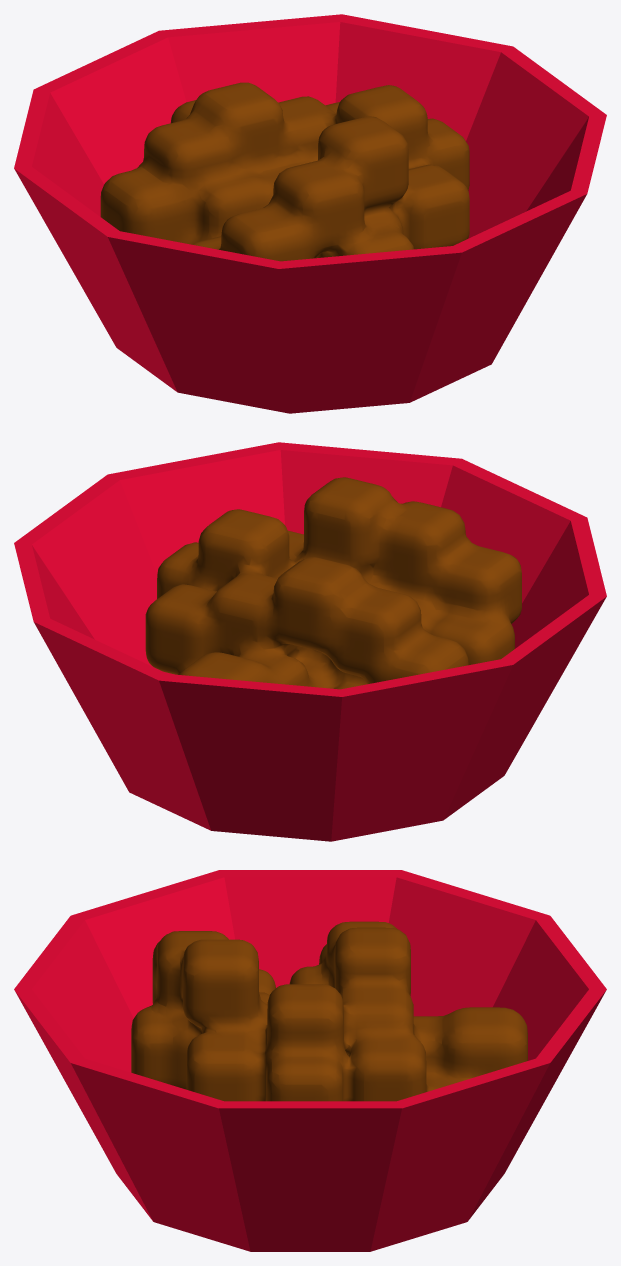
File: platoconalimentocolor.fbx
3 views of the same model, one above another, from view 1: azimuth 30°, elevation 25°; view 2: azimuth 150°, elevation 25°; view 3: azimuth 270°, elevation 25° (orthographic). The views are drawn at different scales.
Parts seen in each view (by area): view 1: Cube, Mball; view 2: Cube, Mball; view 3: Cube, Mball.
Boxes of the visible parts, x1,y1,x2,y2 form: Cube: (14, 14, 606, 413); Mball: (100, 82, 469, 261); Cube: (14, 442, 606, 841); Mball: (145, 477, 521, 689); Cube: (14, 870, 606, 1251); Mball: (131, 921, 527, 1101).
Bounding box in the file's own units: 190 × 85.06 × 200.
